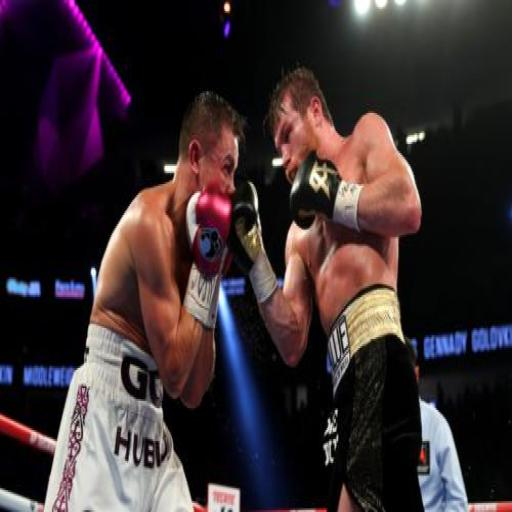boxing: (39, 68, 447, 512)
